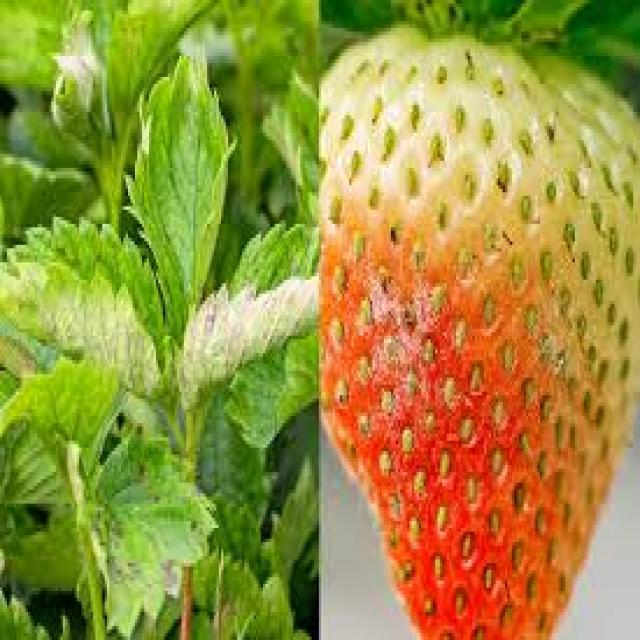Oído: (326, 43, 622, 618)
